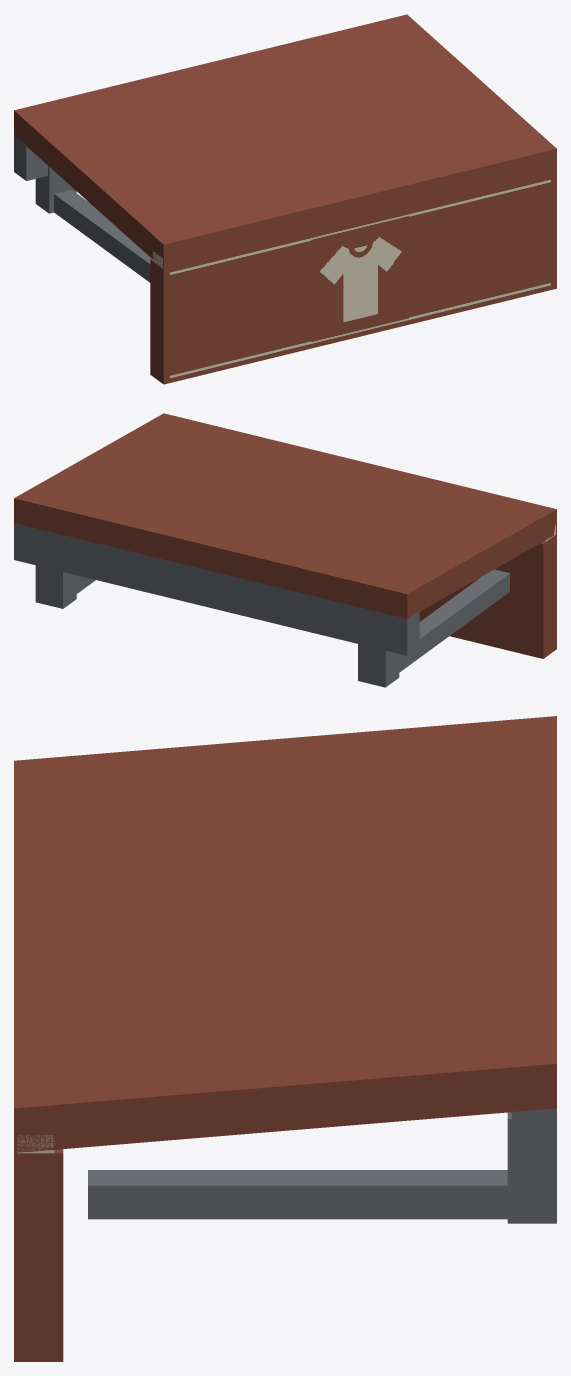
The model's file is building-business-clothing-compact.glb.
The picture shows the model from 3 angles, top to bottom: view 1: azimuth 30°, elevation 25°; view 2: azimuth 150°, elevation 25°; view 3: azimuth 270°, elevation 25°; orthographic projection. The views are drawn at different scales.
Parts seen in each view (by area): view 1: business-clothing-compact; view 2: business-clothing-compact; view 3: business-clothing-compact.
Part boxes in pixels (<box>): business-clothing-compact: <box>14,14,556,384</box>; business-clothing-compact: <box>14,413,556,687</box>; business-clothing-compact: <box>14,716,556,1361</box>.
Bounding box in the file's own units: 1 × 0.4 × 0.66.
4 materials, 1 textured.
